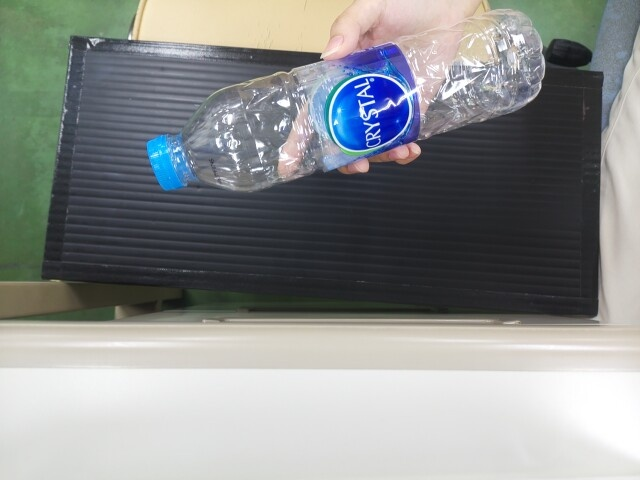plastic_bottle: (147, 53, 423, 190)
